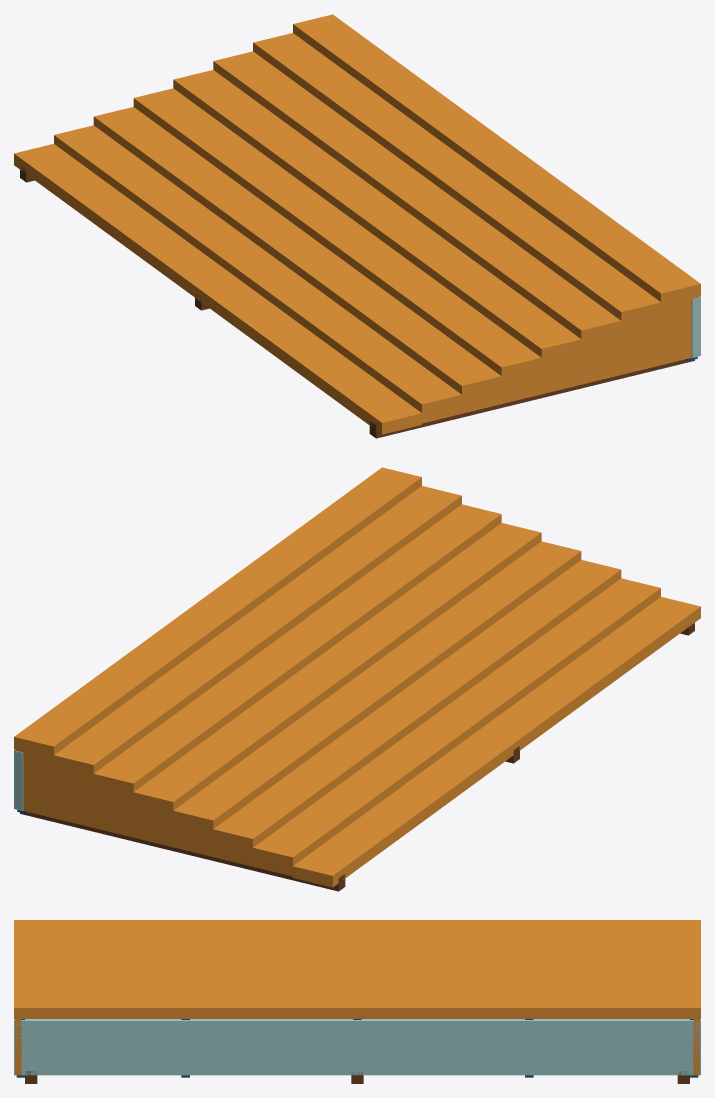
Rendered from roof.glb.
3 renders of one model, top to bottom at view 1: azimuth 30°, elevation 25°; view 2: azimuth 150°, elevation 25°; view 3: azimuth 270°, elevation 25°, orthographic. The views are drawn at different scales.
Parts seen in each view (by area): view 1: Shared_roof; view 2: Shared_roof; view 3: Shared_roof.
Boxes of the visible parts, bbox=[...] form: Shared_roof: bbox=[14, 14, 700, 438]; Shared_roof: bbox=[14, 467, 700, 891]; Shared_roof: bbox=[14, 920, 700, 1083].
Size of the model in its own units: 4 by 0.975 by 8.
